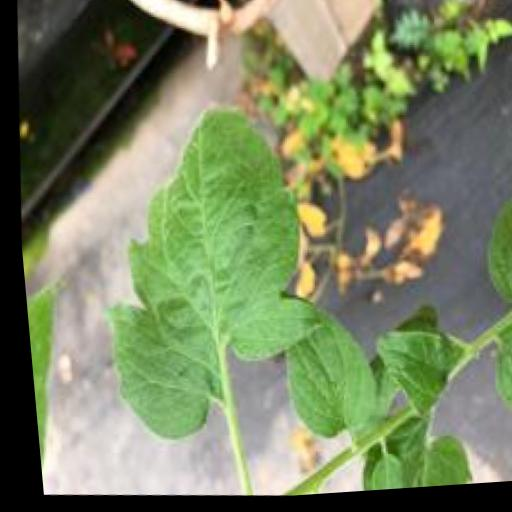Healthy: (72, 91, 347, 459), (264, 301, 381, 449)
